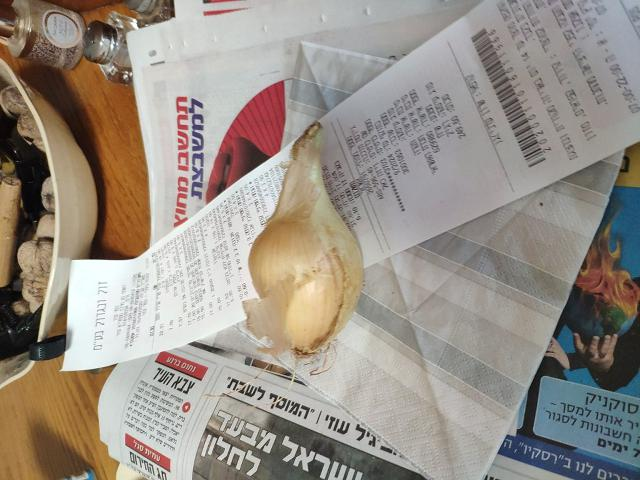onion: (256, 185, 357, 350)
